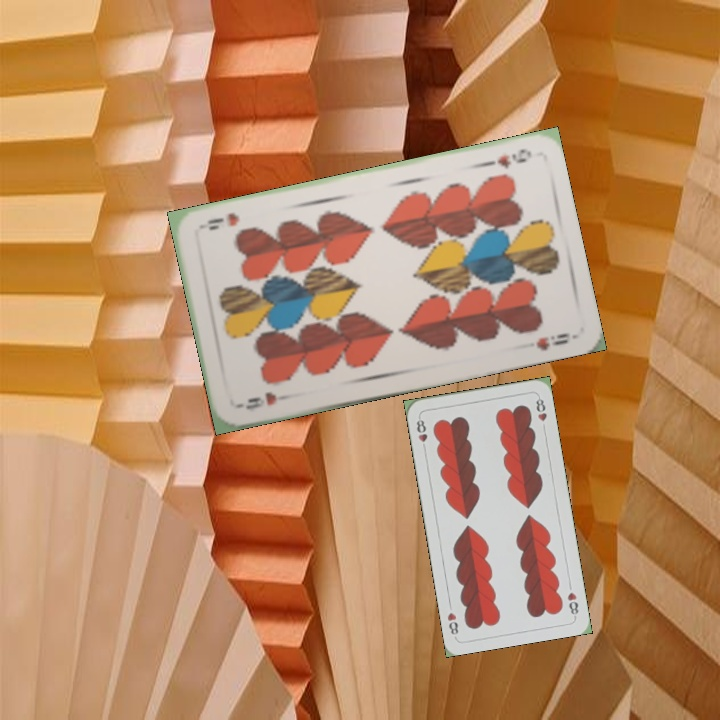H8: (413, 413, 430, 453), (563, 588, 581, 619)
H9: (478, 144, 534, 172), (234, 388, 280, 415)
